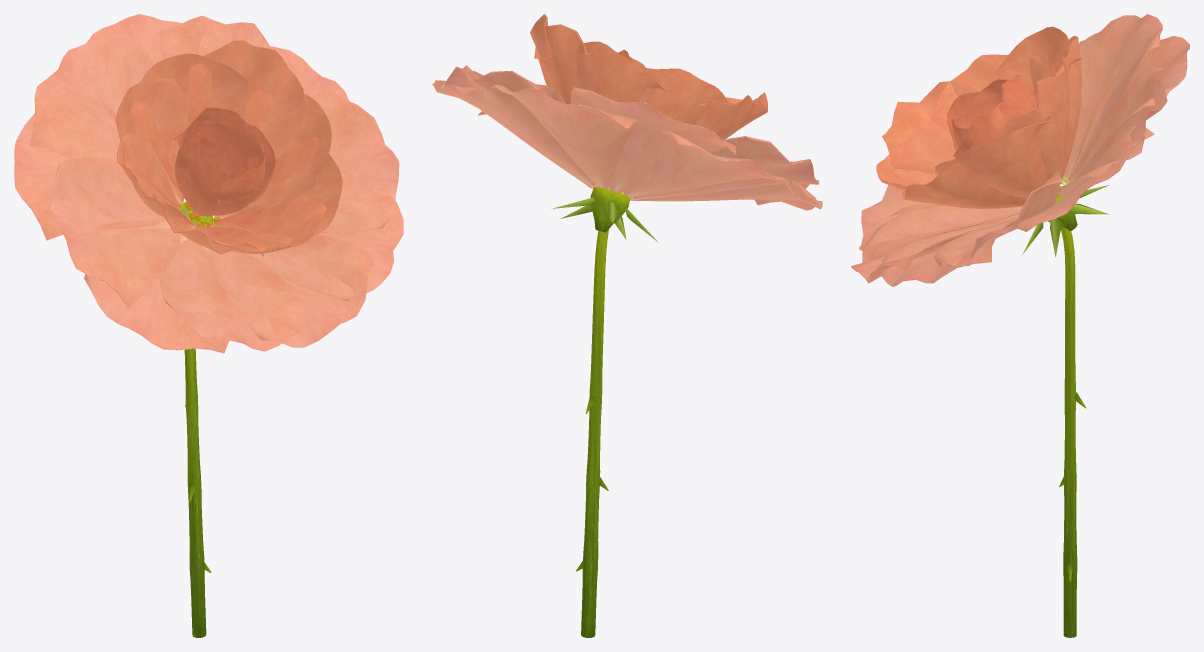
File: color_6.glb
3 views of the same model, side by side, from view 1: azimuth 30°, elevation 25°; view 2: azimuth 150°, elevation 25°; view 3: azimuth 270°, elevation 25° (orthographic).
Visible parts, largest first — view 1: Petal_1_outer_03, Petal_3_outer_04, Petal_5_outer_04, Petal_6_outer_02, Petal_4_outer_01, Petal_8_outer_02, Petal_15_middle_03, Petal_7_outer_03, Petal_17_middle_01, Petal_16_middle_04, Stem_Skinned, Petal_14_middle_04 (+13 smaller); view 2: Petal_0_outer_01, Stem_Skinned, Petal_2_outer_01, Petal_10_outer_02, Petal_1_outer_03, Petal_16_middle_04, Petal_3_outer_04, Petal_17_middle_01, Petal_15_middle_03, Petal_4_outer_01, Hypanthium_and_five_sepals, Petal_18_middle_02 (+2 smaller); view 3: Petal_1_outer_03, Stem_Skinned, Petal_14_middle_04, Petal_6_outer_02, Petal_10_outer_02, Petal_15_middle_03, Petal_11_middle_03, Petal_13_middle_02, Petal_7_outer_03, Petal_0_outer_01, Petal_8_outer_02, Petal_5_outer_04 (+10 smaller).
Boxes of the visible parts, box(x1,y1,x2,y2) form: Petal_1_outer_03: box(29, 37, 154, 186); Petal_3_outer_04: box(50, 159, 179, 308); Petal_5_outer_04: box(159, 239, 309, 351); Petal_6_outer_02: box(209, 234, 373, 347); Petal_4_outer_01: box(84, 228, 232, 353); Petal_8_outer_02: box(312, 90, 399, 233); Petal_15_middle_03: box(188, 40, 306, 155); Petal_7_outer_03: box(246, 172, 403, 301); Petal_17_middle_01: box(115, 78, 188, 206); Petal_16_middle_04: box(130, 53, 248, 191); Stem_Skinned: box(184, 212, 211, 637); Petal_14_middle_04: box(237, 89, 331, 211); Petal_0_outer_01: box(489, 84, 638, 188); Stem_Skinned: box(576, 229, 608, 637); Petal_2_outer_01: box(624, 130, 794, 197); Petal_10_outer_02: box(441, 66, 594, 186); Petal_1_outer_03: box(570, 87, 735, 193); Petal_16_middle_04: box(576, 41, 669, 102); Petal_3_outer_04: box(633, 136, 819, 200); Petal_17_middle_01: box(638, 67, 728, 124); Petal_15_middle_03: box(530, 14, 593, 104); Petal_4_outer_01: box(632, 182, 822, 210); Hypanthium_and_five_sepals: box(551, 187, 657, 241); Petal_18_middle_02: box(694, 95, 755, 138); Petal_1_outer_03: box(1063, 14, 1162, 182); Stem_Skinned: box(1059, 227, 1086, 637); Petal_14_middle_04: box(935, 116, 1051, 198); Petal_6_outer_02: box(851, 206, 1020, 283); Petal_10_outer_02: box(1059, 66, 1167, 196); Petal_15_middle_03: box(1000, 57, 1081, 184); Petal_11_middle_03: box(882, 80, 978, 174); Petal_13_middle_02: box(902, 163, 1026, 208); Petal_7_outer_03: box(881, 217, 1018, 286); Petal_0_outer_01: box(1070, 36, 1189, 181); Petal_8_outer_02: box(934, 170, 1062, 266); Petal_5_outer_04: box(859, 185, 1021, 260).
Bounding box in the file's own units: 0.1988 × 0.3289 × 0.1713.
7 materials, 7 textured.
